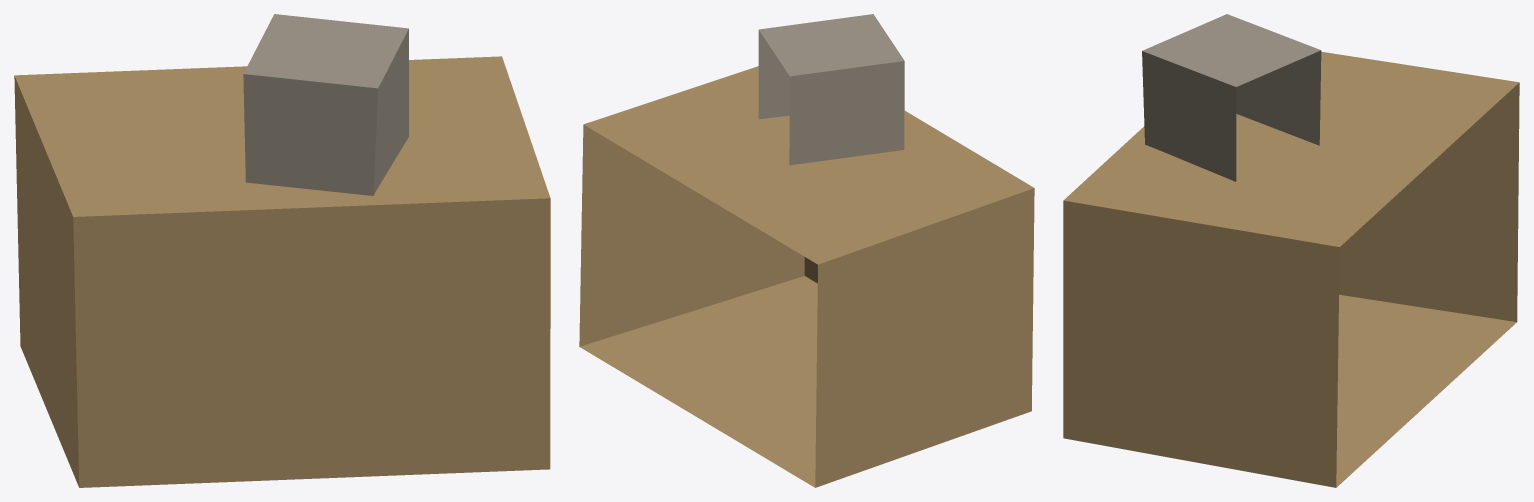
File: MSH_QuestObject_cabinet_03.fbx
3 views of the same model, side by side, from view 1: azimuth 30°, elevation 25°; view 2: azimuth 150°, elevation 25°; view 3: azimuth 270°, elevation 25° (orthographic). The views are drawn at different scales.
Visible parts, largest first — view 1: MSH_QuestObject_cabinet_03; view 2: MSH_QuestObject_cabinet_03; view 3: MSH_QuestObject_cabinet_03.
Boxes of the visible parts, x1=… form: MSH_QuestObject_cabinet_03: x1=14, y1=14, x2=550, y2=487; MSH_QuestObject_cabinet_03: x1=579, y1=14, x2=1034, y2=487; MSH_QuestObject_cabinet_03: x1=1063, y1=14, x2=1519, y2=487.
Bounding box in the file's own units: 1.59 × 1.17 × 1.45.
